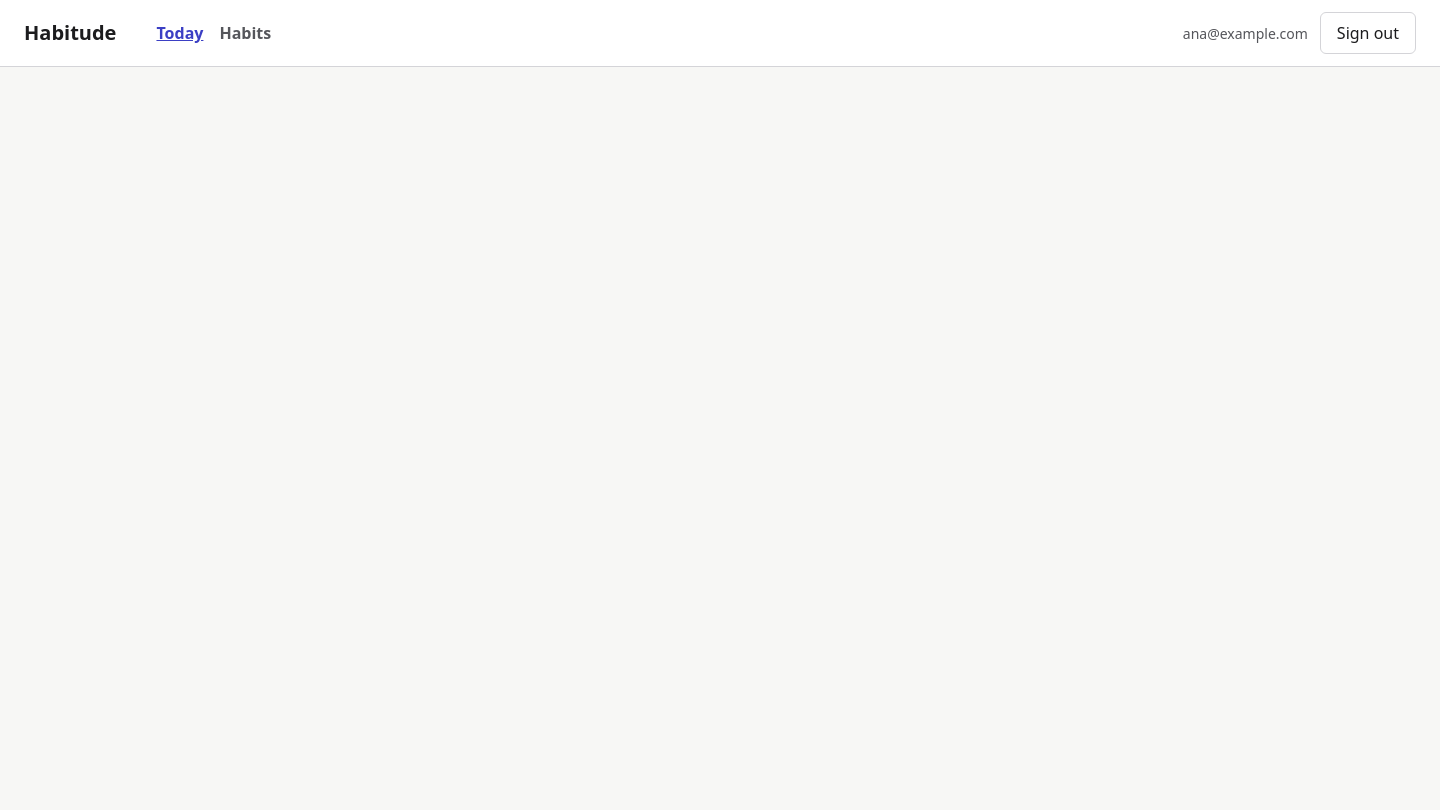
spec 001 US3 - Sign out › given a signed-in user, when choosing "Sign out", then the session is ended and sign-in is shown
The width and height of the screenshot is (1440, 810).
Click the button "Sign out".
click(1368, 33)  # box [1320, 12, 1416, 54]
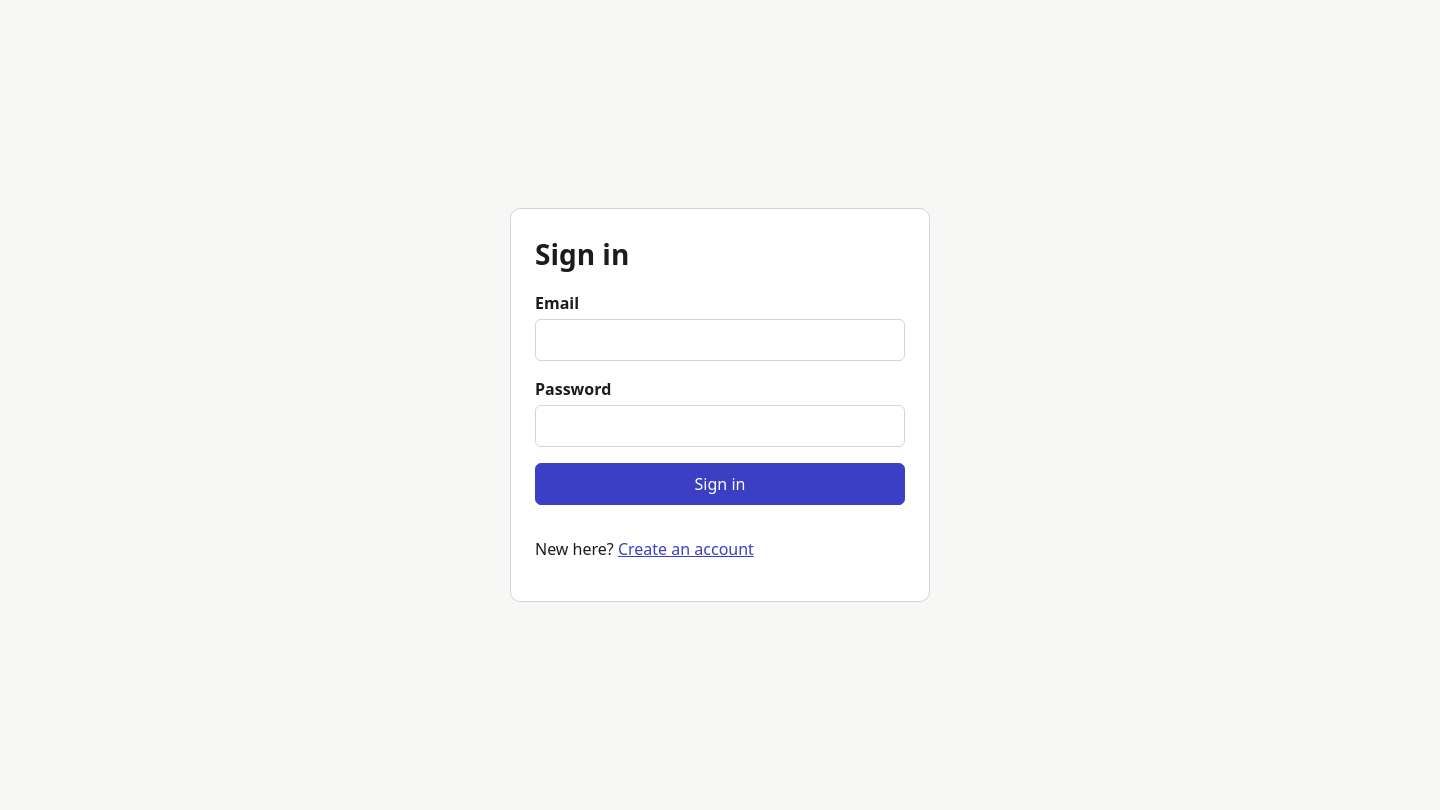
Now the heading "Sign in" is shown, box [535, 235, 629, 273]
Now the text "ana@example.com" is gone
